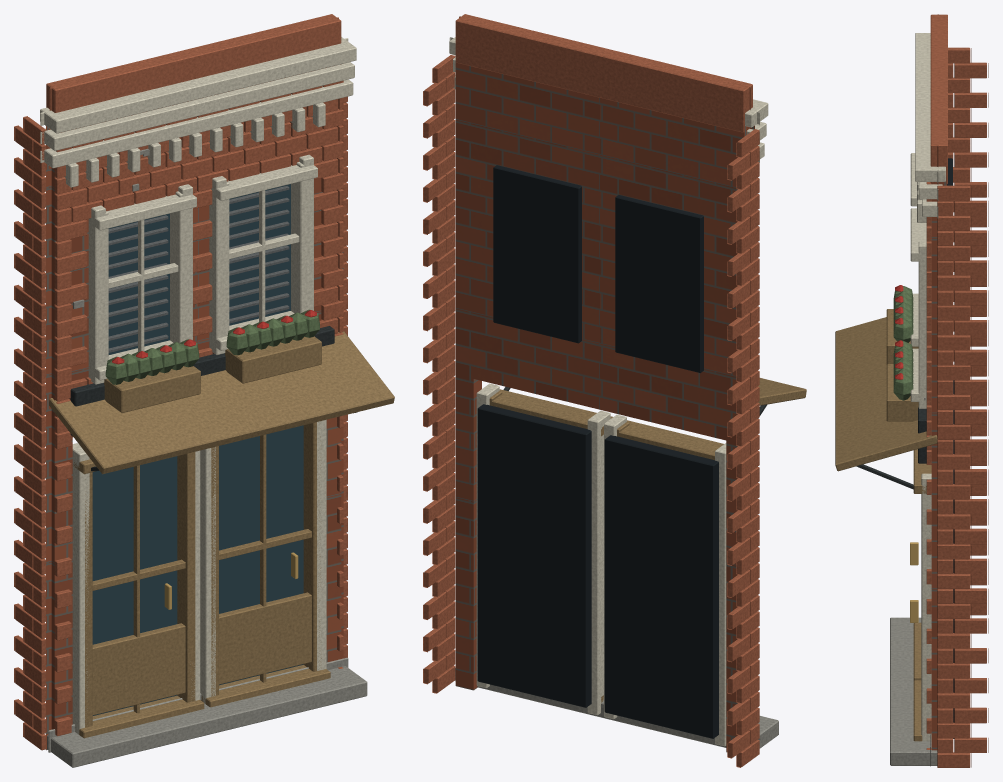
Rendered from CLSTGA12_lod0.glb.
3 renders of one model, left to right at view 1: azimuth 30°, elevation 25°; view 2: azimuth 150°, elevation 25°; view 3: azimuth 270°, elevation 25°, orthographic. The views are drawn at different scales.
Visible parts, largest first — view 1: CLSTGA12_FRONT_LOD0; view 2: CLSTGA12_FRONT_LOD0; view 3: CLSTGA12_FRONT_LOD0.
Part boxes in pixels (bbox=[...]): CLSTGA12_FRONT_LOD0: bbox=[14, 14, 394, 767]; CLSTGA12_FRONT_LOD0: bbox=[423, 14, 806, 767]; CLSTGA12_FRONT_LOD0: bbox=[835, 14, 988, 767].
Bounding box in the file's own units: 3.44 × 7.05 × 1.59.
Materials: 14 (11 with a texture image).
